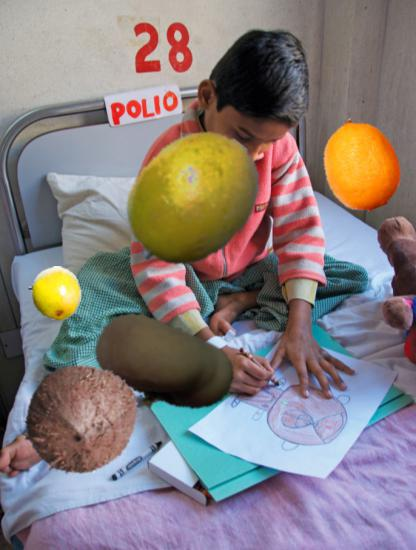Cocos: (21, 357, 144, 480)
Lemon: (314, 118, 407, 211)
Maracuja: (118, 126, 268, 276), (27, 266, 82, 321)
Peach: (91, 295, 235, 439)
